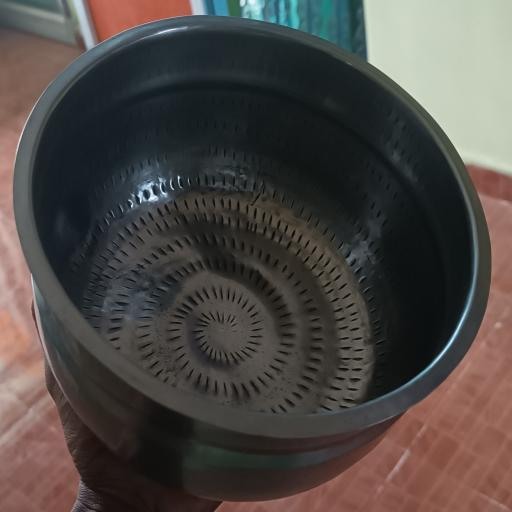vessel: (14, 17, 490, 500)
